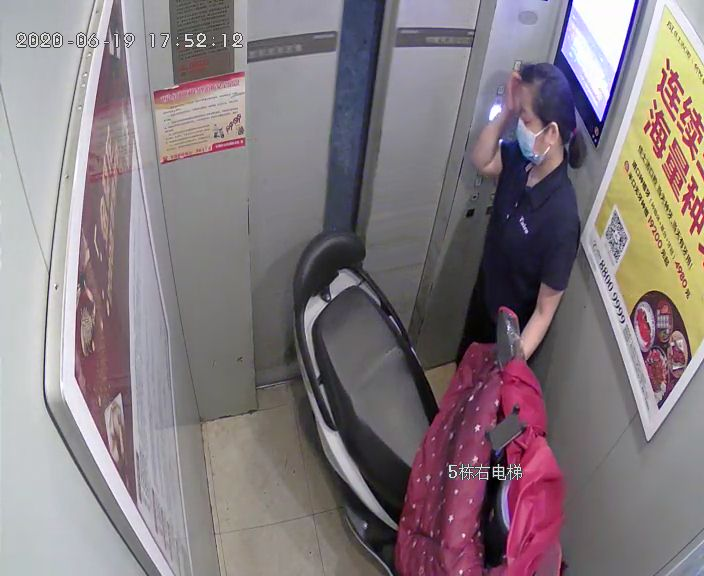Electric-bicycle: (294, 235, 557, 570)
